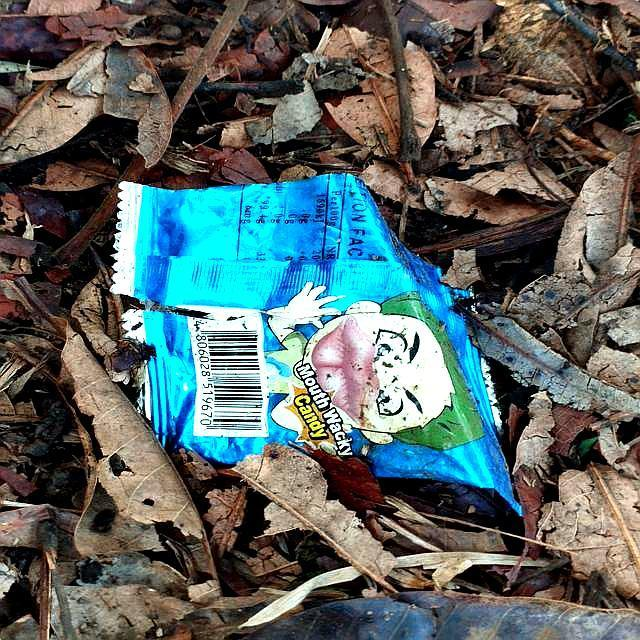Non-biodegradable: (110, 171, 525, 520)
